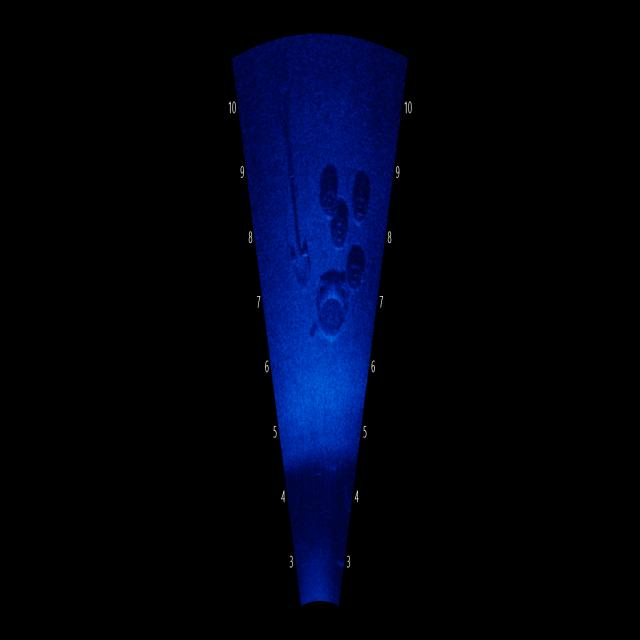circle: (309, 264, 352, 354), (316, 159, 342, 232), (344, 242, 370, 308), (325, 194, 354, 253), (349, 164, 371, 226)
